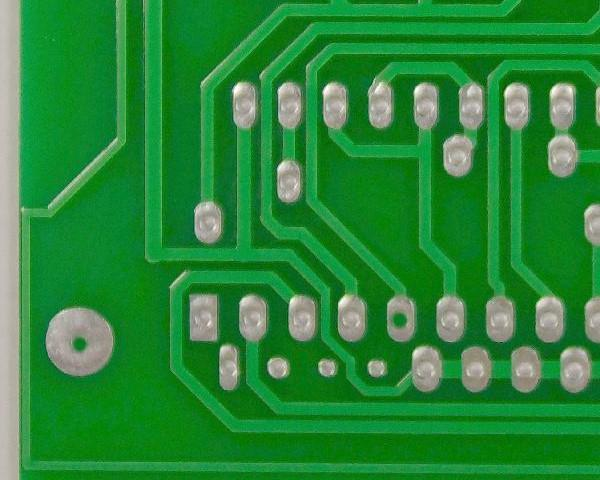missing hole: (40, 305, 116, 376), (384, 293, 421, 347)
